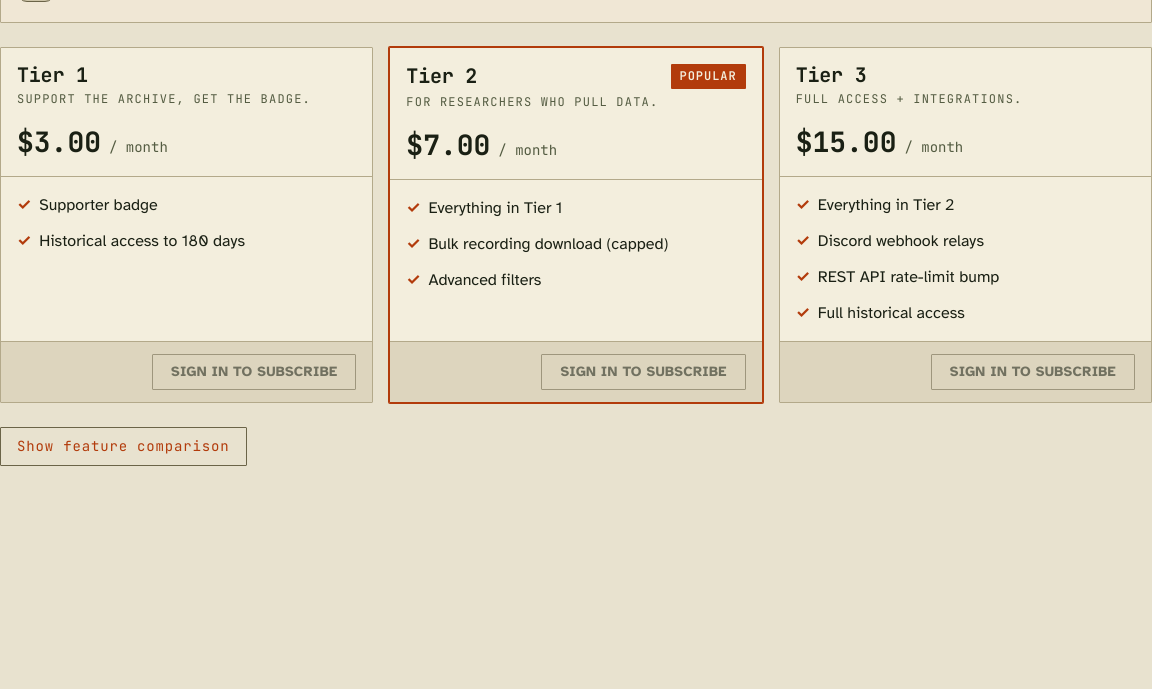
SupportTiers › toggles the comparison table
The width and height of the screenshot is (1152, 689).
Click the button "Show feature comparison".
click(123, 447)  # box [0, 427, 246, 466]
(page scrolled)
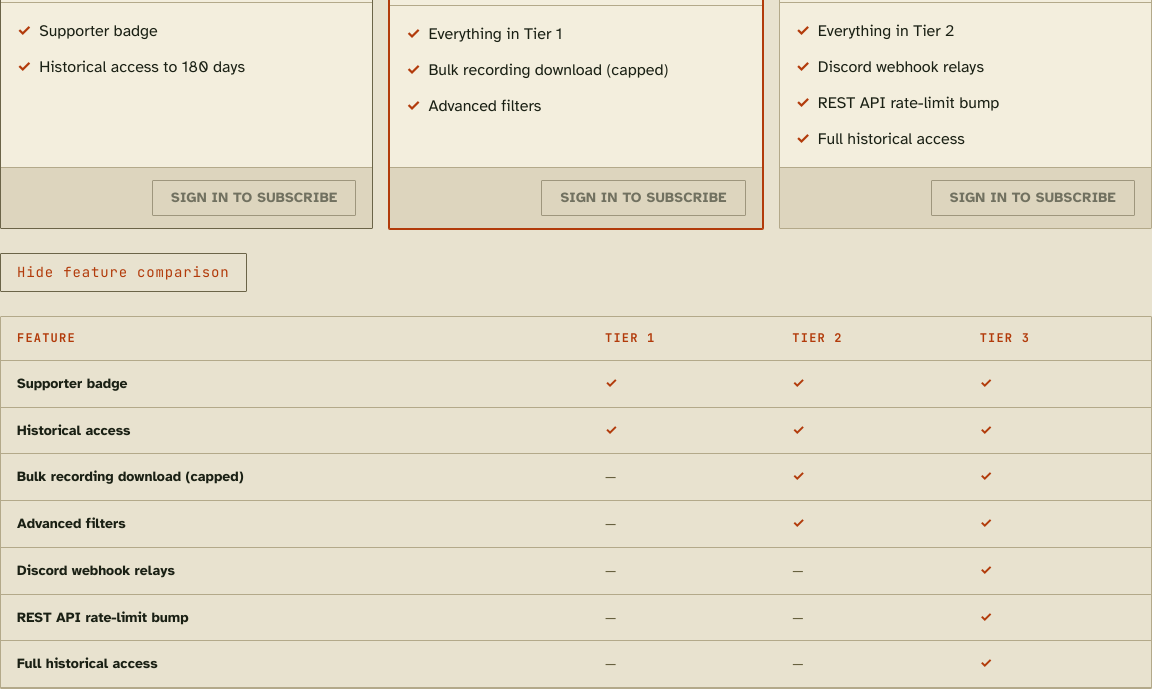
expect the table is shown: met, box [1, 318, 1151, 688]
expect the row "Discord webhook relays — — ✓" is shown: met, box [1, 547, 1151, 594]
